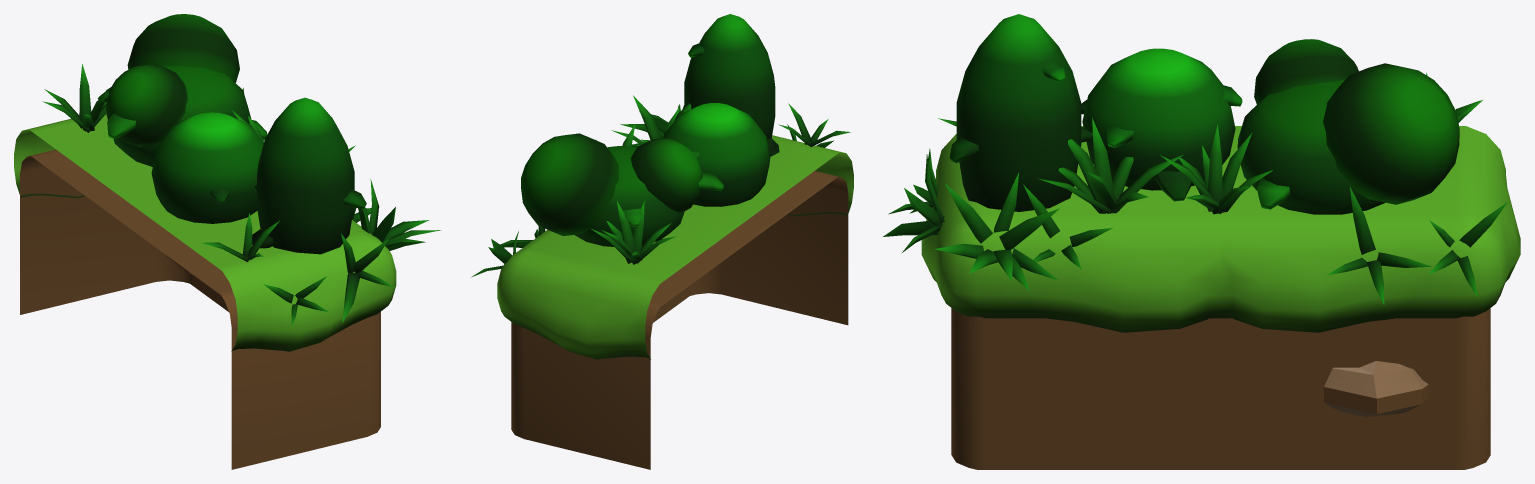
The model's file is Tutor_Island_01.fbx.
The picture shows the model from 3 angles, left to right: view 1: azimuth 30°, elevation 25°; view 2: azimuth 150°, elevation 25°; view 3: azimuth 270°, elevation 25°; orthographic projection. The views are drawn at different scales.
Parts seen in each view (by area): view 1: Island_01; view 2: Island_01; view 3: Island_01.
Boxes of the visible parts, x1,y1,x2,y2 form: Island_01: [14, 14, 441, 469]; Island_01: [471, 14, 853, 469]; Island_01: [883, 14, 1520, 469].
Bounding box in the file's own units: 2999 × 3938 × 5436.
